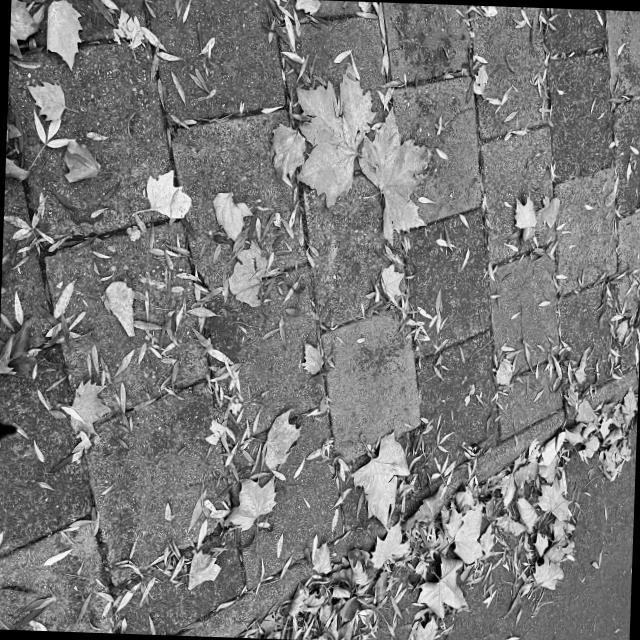leaves: (279, 3, 639, 371)
